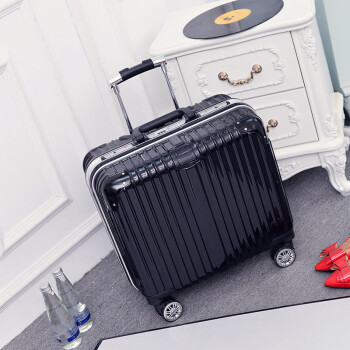box: (82, 93, 293, 305)
handle: (129, 107, 199, 145)
wheel: (155, 296, 183, 322), (271, 243, 296, 268)
